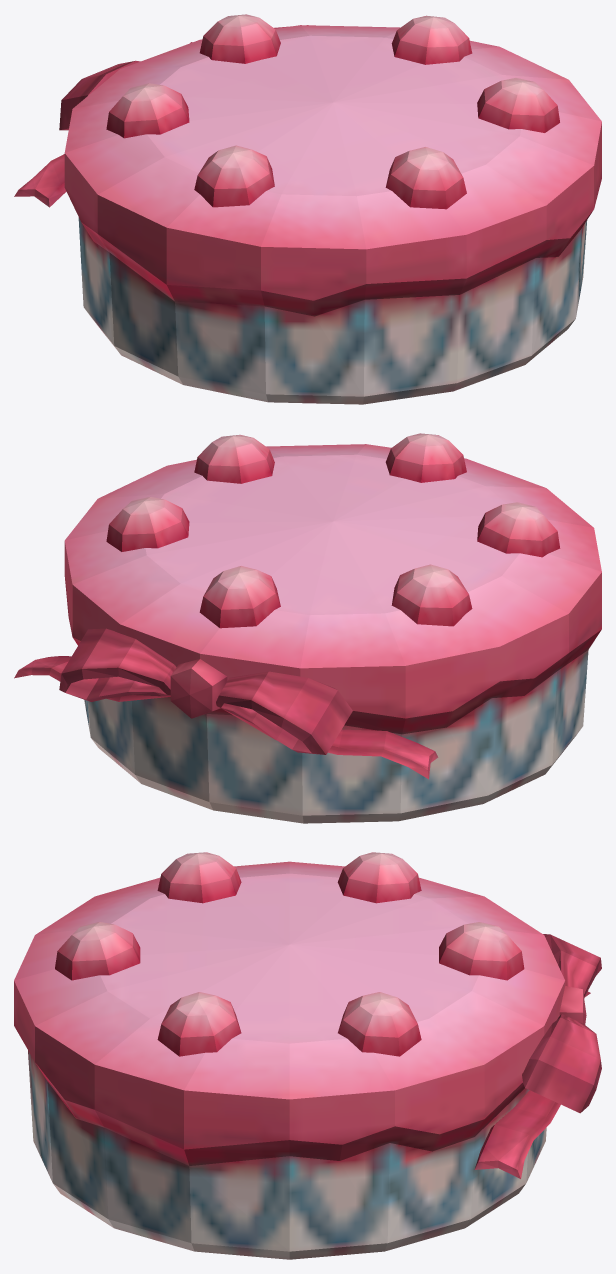
The model's file is Whale_bdWeapon_shield.obj.
3 renders of one model, top to bottom at view 1: azimuth 30°, elevation 25°; view 2: azimuth 150°, elevation 25°; view 3: azimuth 270°, elevation 25°, orthographic. The views are drawn at different scales.
Parts seen in each view (by area): view 1: Whale_bdWeapon_tri:shield; view 2: Whale_bdWeapon_tri:shield; view 3: Whale_bdWeapon_tri:shield.
Part boxes in pixels (x1,y1,x2,y2): Whale_bdWeapon_tri:shield: (14,14,601,404); Whale_bdWeapon_tri:shield: (14,433,601,823); Whale_bdWeapon_tri:shield: (14,852,601,1259).
Bounding box in the file's own units: 0.6963 × 0.3086 × 0.7276.
Materials: 1 (1 with a texture image).
